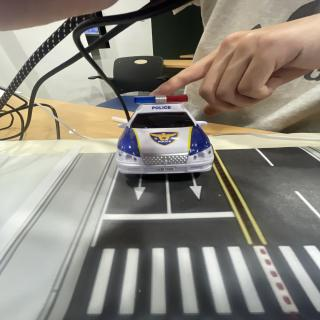Police_car: (116, 94, 214, 174)
